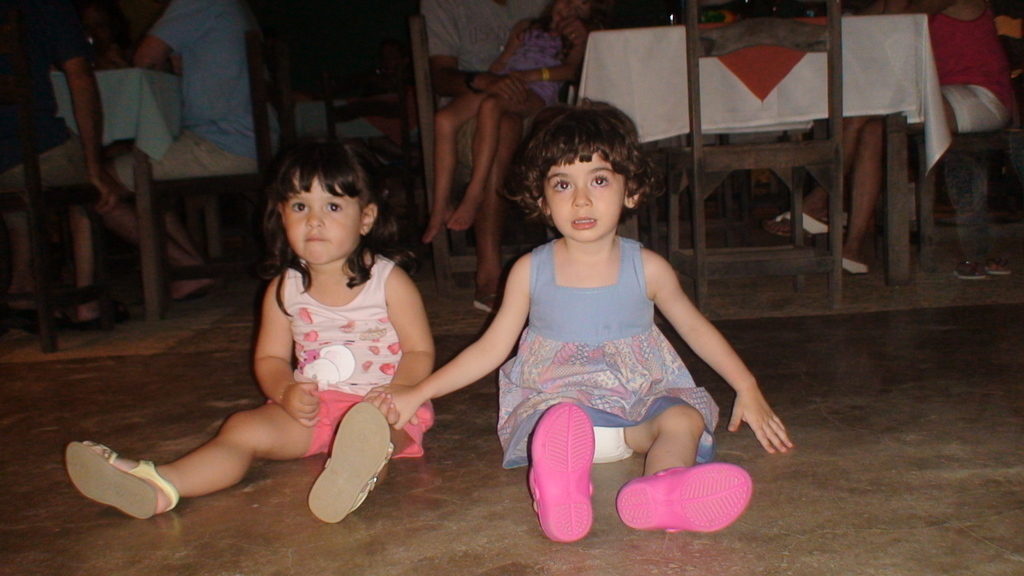Human_hand: (732, 351, 783, 460), (364, 381, 426, 429), (368, 393, 424, 429), (285, 383, 322, 428), (90, 173, 121, 217), (493, 78, 532, 104), (512, 76, 532, 86)
